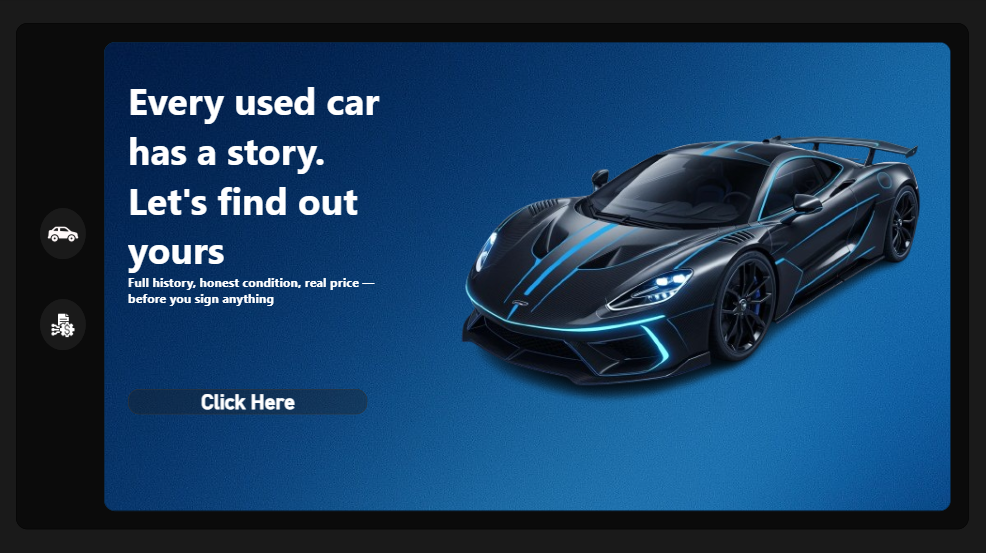

The dashboard page shown, as its layout file describes it:
{"tool":"powerbi","page":{"name":"Home Page","canvas":[1920,1080],"ordinal":0},"visuals":[{"type":"shape","box":[38,50,1844,980],"z":0},{"type":"shape","box":[84.6,408.8,88.8,99],"z":0,"group":"g1"},{"type":"image","box":[208.3,87.2,1639.1,907.8],"z":1000},{"type":"shape","box":[84.6,584.4,88.8,99],"z":1000,"group":"g1"},{"type":"image","box":[867.4,85,943.9,907.8],"z":2000},{"type":"textbox","box":[255.1,150.9,523,631.4],"z":3000},{"type":"shape","title":"Click Here","box":[255.1,759,463.5,48.9],"z":4000},{"type":"group","id":"g1","title":"Group 1","box":[84.6,408.8,88.8,274.6],"z":5000},{"type":"image","box":[84.6,609,88.8,51.6],"z":6000},{"type":"image","box":[99.1,421.2,61.9,73.5],"z":7000}]}

Visuals, with their boxes on the page's 1920x1080 design canvas (x1, y1, x2, y2). These are canvas units, not pixel positions in the 986x553 screenshot, which may show the page scaled, cropped or inside an application window:
shape: 38:50:1882:1030
shape: 85:409:173:508
image: 208:87:1847:995
shape: 85:584:173:683
image: 867:85:1811:993
textbox: 255:151:778:782
"Click Here" shape: 255:759:719:808
"Group 1" group: 85:409:173:683
image: 85:609:173:661
image: 99:421:161:495
